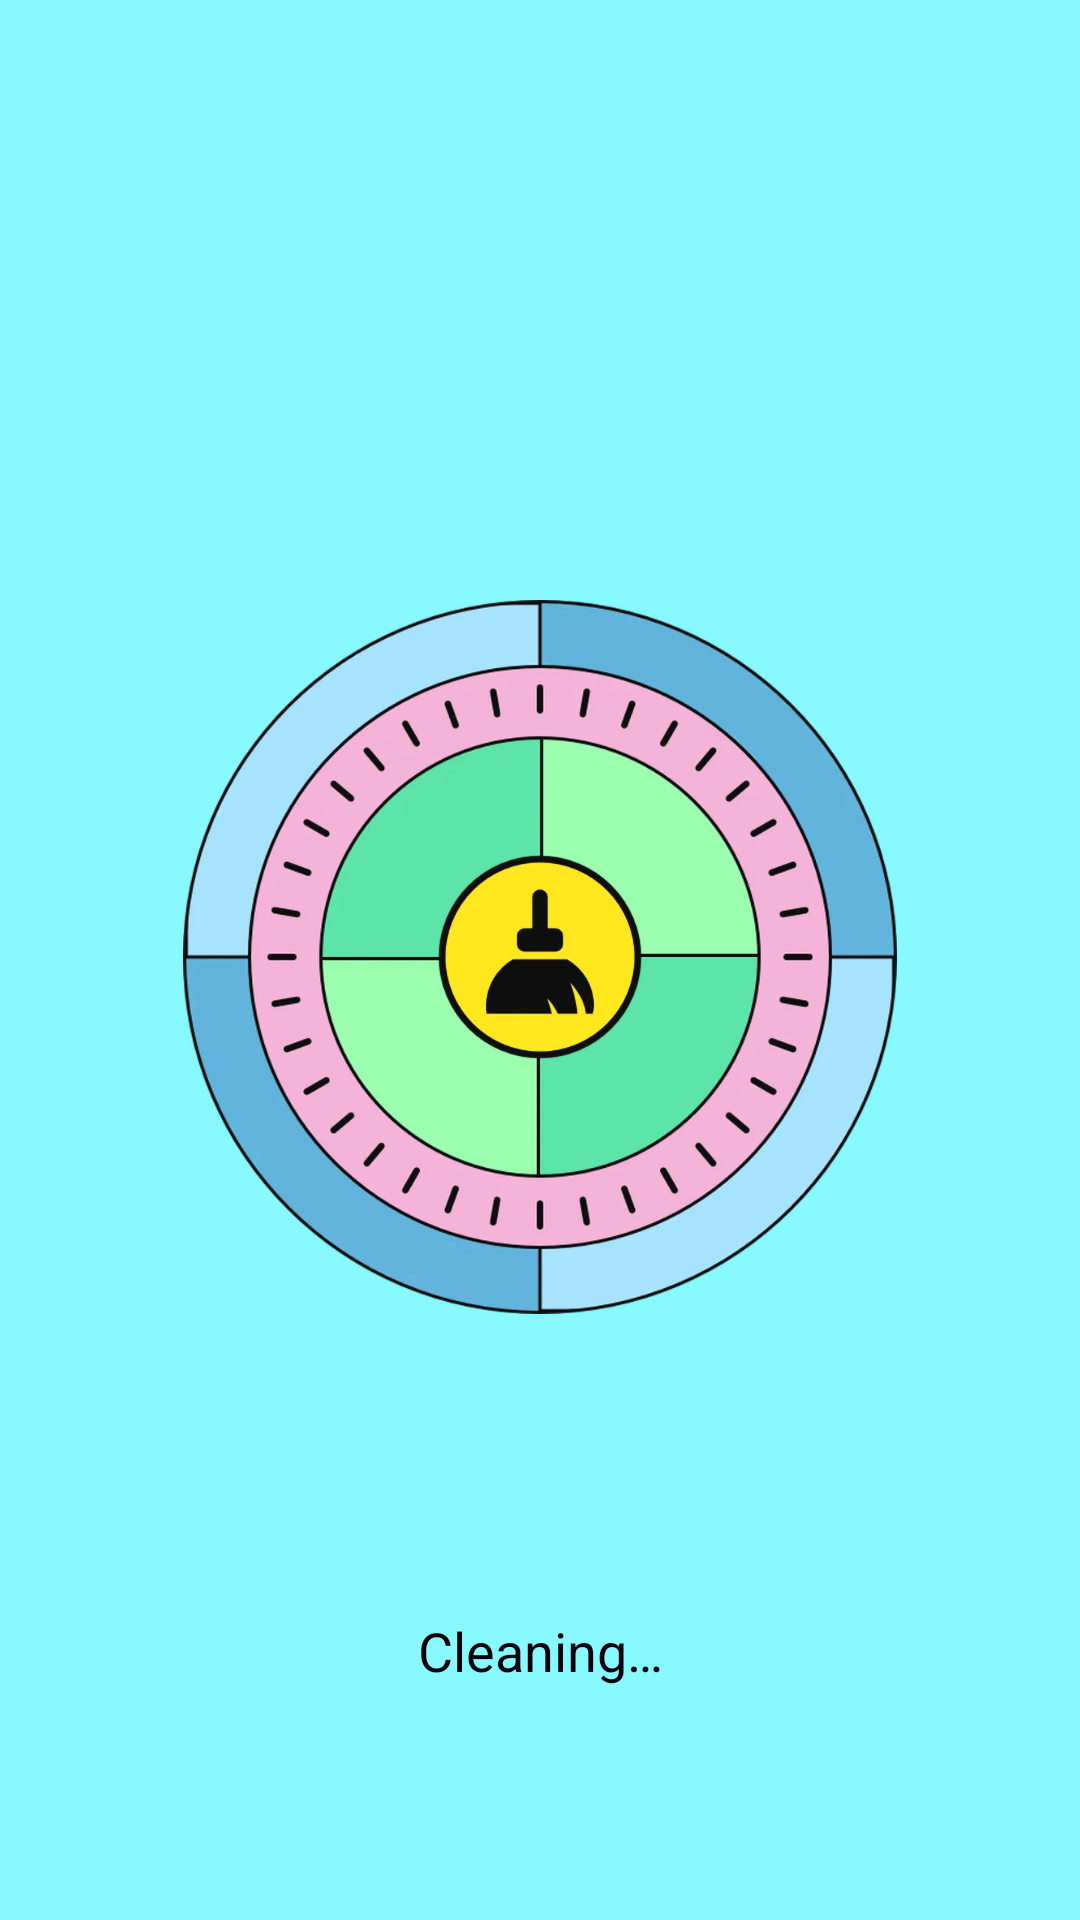

Named icons in this screenshot (1080w x 1920h) and their centers, [x,y]:
cleanly: [540,957]
